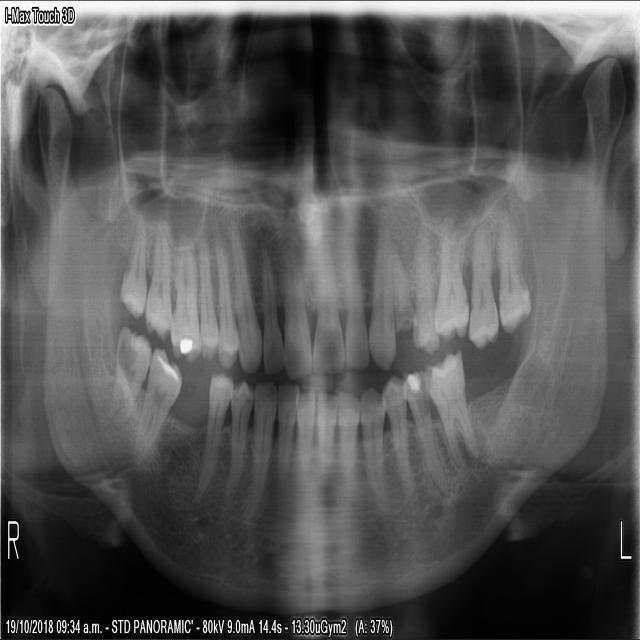LCD: (356, 379, 392, 522)
LCU: (365, 200, 395, 372)
LID: (336, 383, 358, 534), (313, 383, 336, 507)
LIU: (309, 212, 344, 375), (338, 214, 368, 371)
LMD: (421, 347, 477, 476)
LMU: (429, 202, 469, 342), (494, 195, 531, 337), (463, 207, 498, 353)
LPMD: (398, 362, 449, 498), (377, 368, 414, 503)
LPMU: (407, 207, 439, 356)
RCD: (244, 376, 275, 520)
RCU: (227, 216, 261, 373)
RID: (268, 376, 298, 503), (291, 385, 314, 500)
RIU: (278, 224, 311, 381), (259, 237, 284, 376)
RMD: (127, 343, 182, 469), (104, 316, 151, 428)
RMU: (165, 226, 199, 365), (140, 216, 173, 345), (115, 203, 146, 321)
RPMD: (188, 368, 234, 510), (217, 372, 252, 513)
RPMU: (210, 221, 239, 372), (194, 225, 219, 361)
